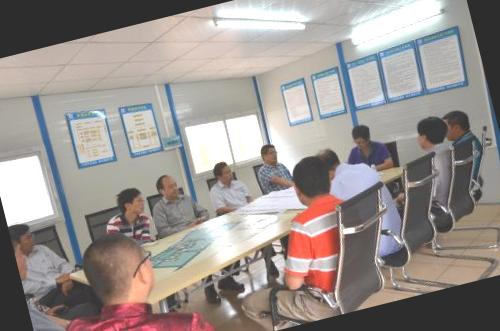no_helmet: (78, 222, 169, 316), (286, 150, 338, 206), (106, 182, 151, 224), (411, 108, 452, 154), (314, 138, 348, 182), (438, 102, 474, 142), (8, 215, 44, 254), (151, 167, 181, 202), (12, 238, 35, 280), (347, 120, 376, 152), (254, 138, 283, 166), (209, 157, 234, 186)
